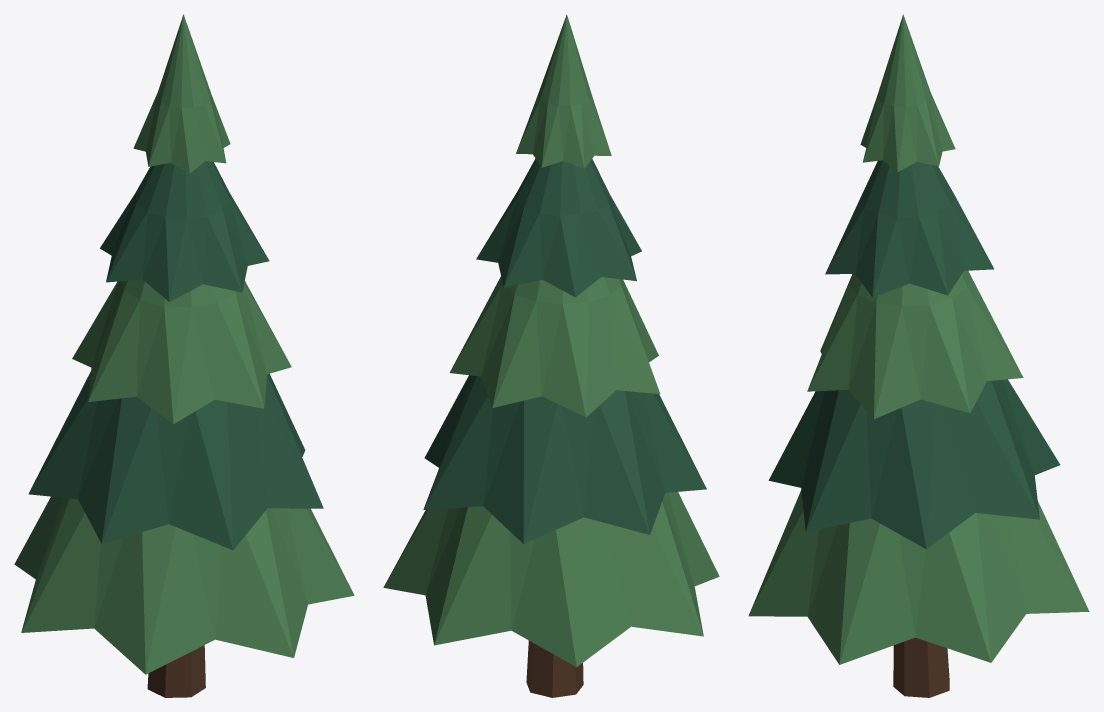
The model's file is Pine_Tall.fbx.
The picture shows the model from 3 angles, left to right: view 1: azimuth 30°, elevation 25°; view 2: azimuth 150°, elevation 25°; view 3: azimuth 270°, elevation 25°; orthographic projection. The views are drawn at different scales.
Visible parts, largest first — view 1: Pine_Tall.001; view 2: Pine_Tall.001; view 3: Pine_Tall.001.
Part boxes in pixels (x1=…): Pine_Tall.001: x1=14, y1=14, x2=354, y2=697; Pine_Tall.001: x1=383, y1=14, x2=719, y2=697; Pine_Tall.001: x1=748, y1=14, x2=1089, y2=697.
Size of the model in its own units: 2.72 by 6 by 2.76.
